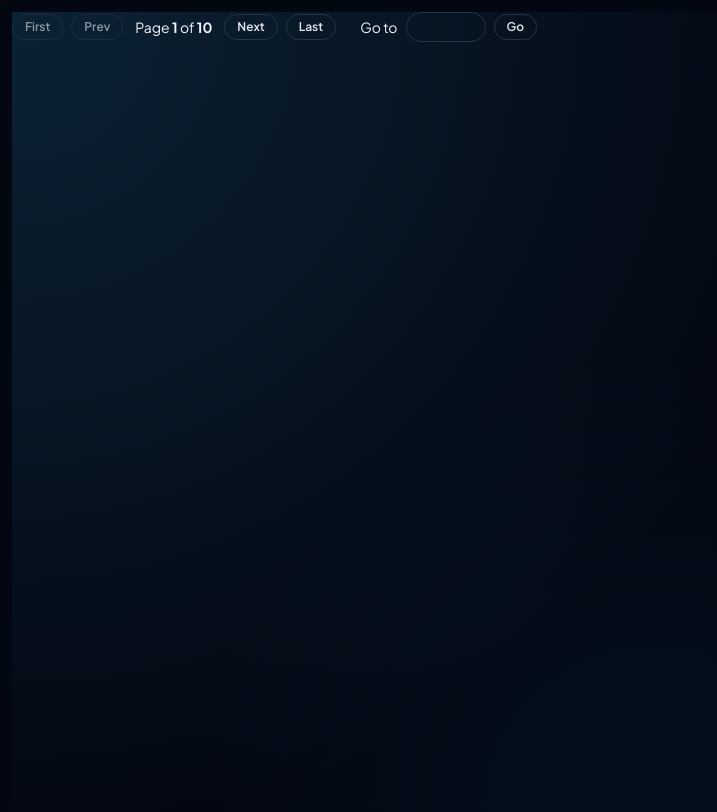
Test: PaginationControls › handles jump to page input and Go button
This screenshot has width=717, height=812.
Type "5" into the number field labelled "Go to" at (446, 27), box [406, 12, 486, 42]
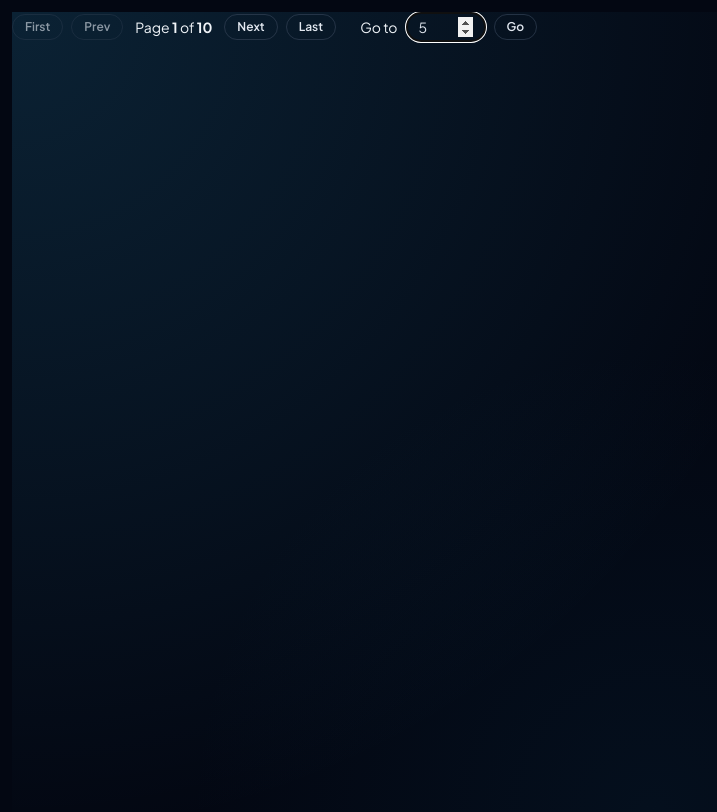
Click the button "Go" at (515, 27), box [494, 14, 537, 40]
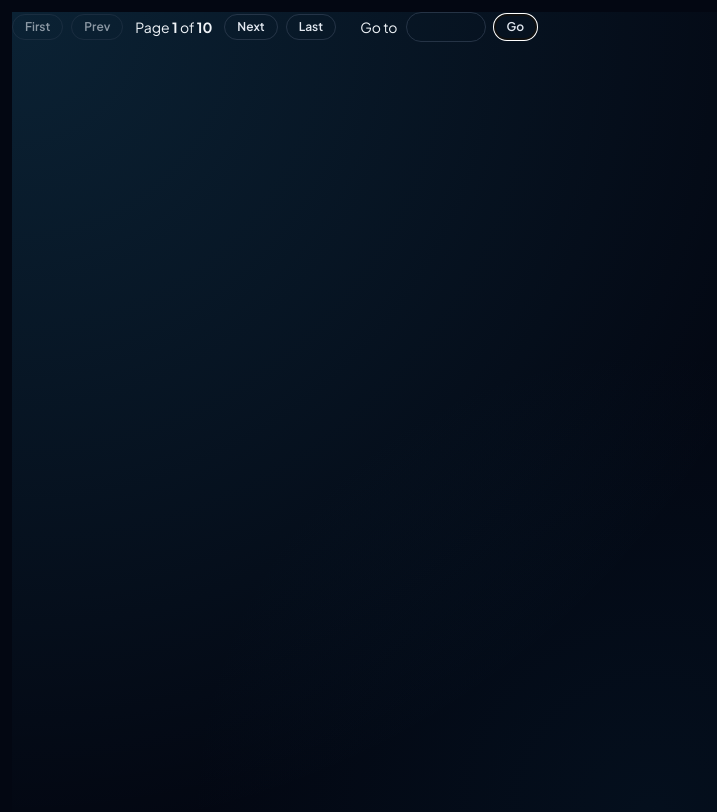
expect the number field labelled "Go to" is not empty: met, box [406, 12, 486, 42]
